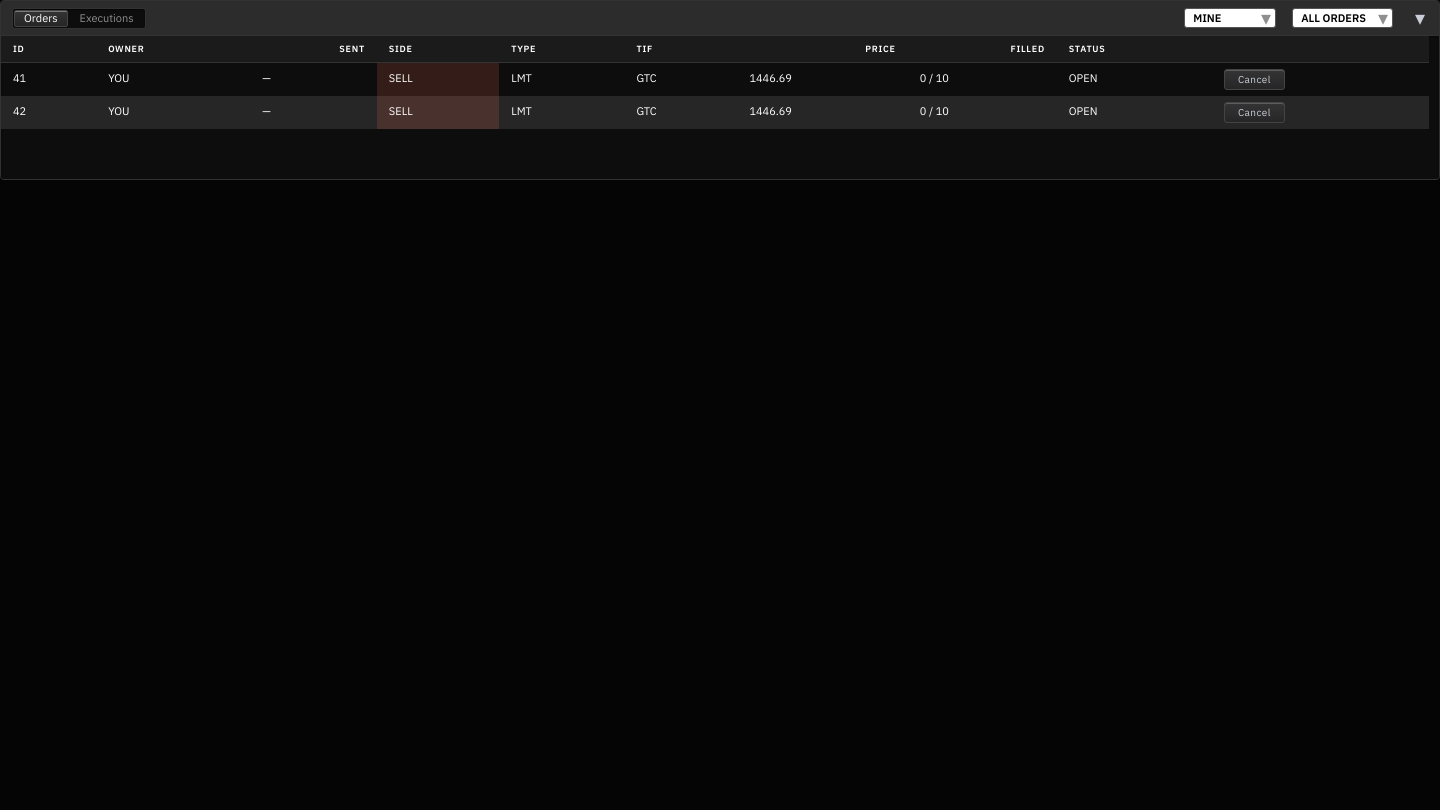
Scenario: blotter cancel confirmation (D5) › sends exactly one cancel for the right order on Confirm Cancel, then closes
The width and height of the screenshot is (1440, 810).
Click the button with test id "cancel-42". click: x=1254, y=112
box: [1224,102,1285,123]
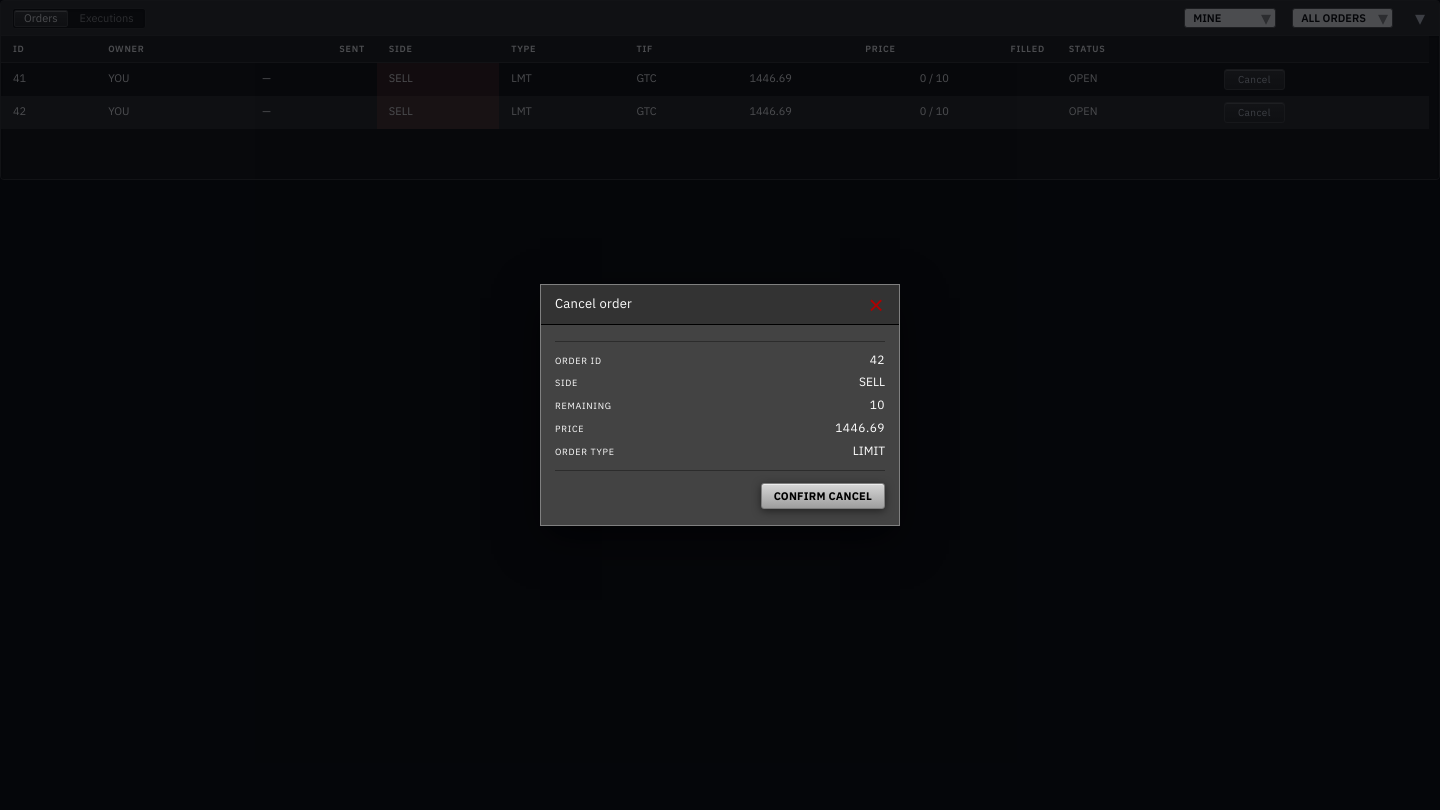
Click the button with test id "cancel-confirm-submit". click: x=823, y=496
box: [761,483,885,509]
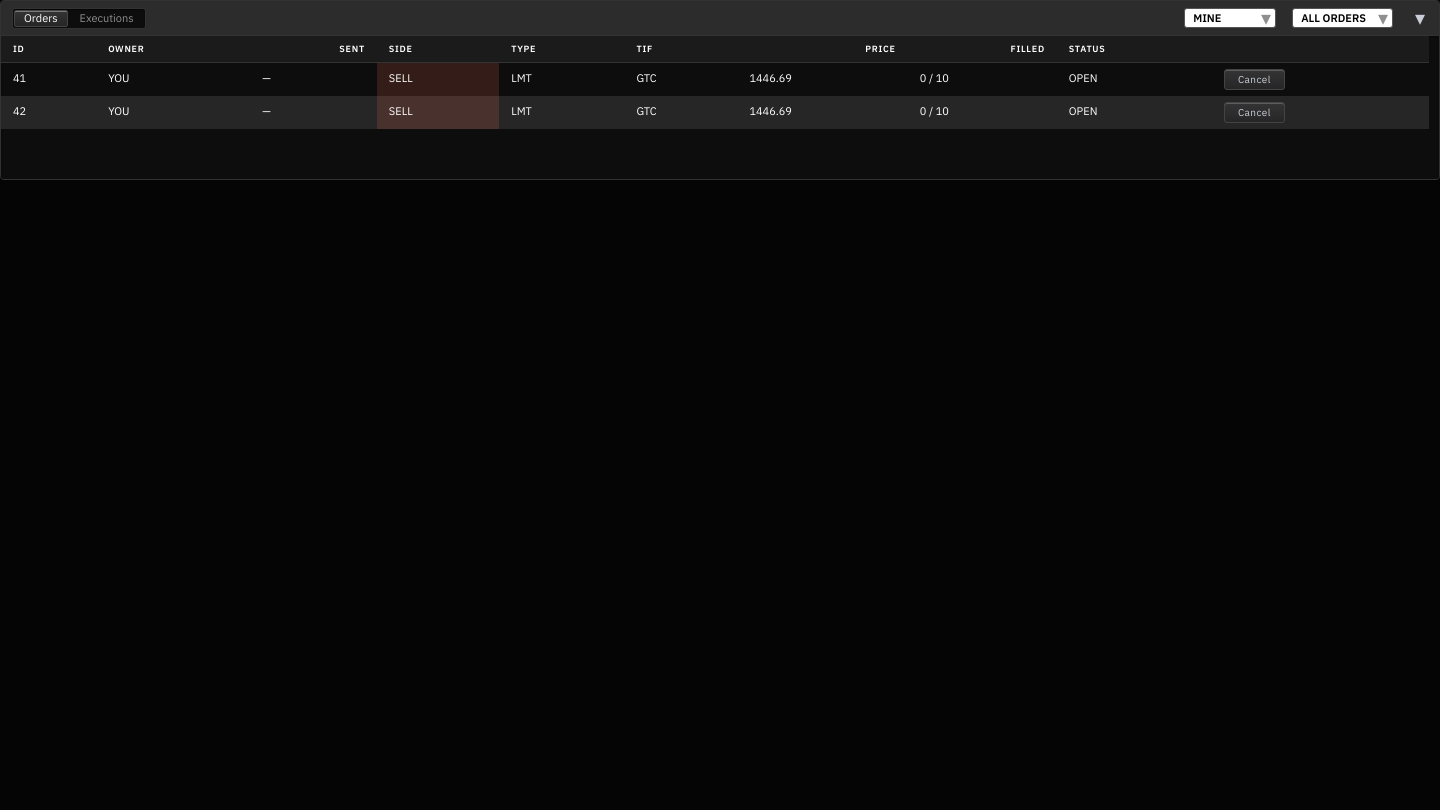
Check: the dialog with test id "cancel-confirm" is gone
